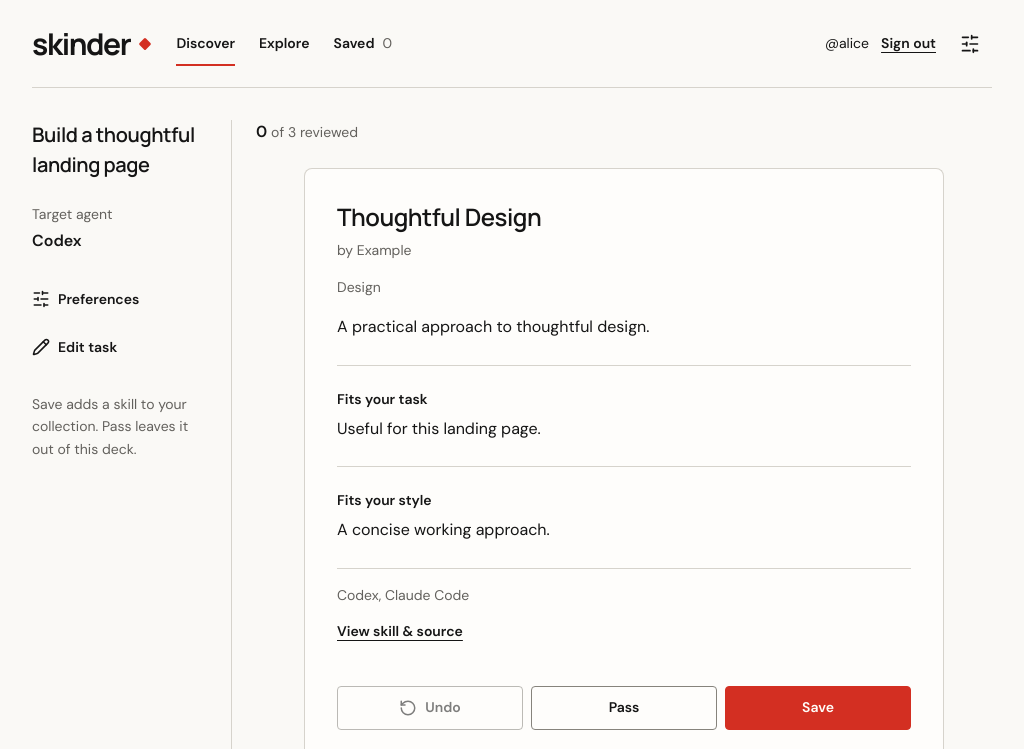
Test: skill discovery › retries a lost save response idempotently without starting a new match
Expected: the heading "Thoughtful Design" is shown, [337,200,541,233]
Click the button with aria-label "Save this skill" at (818, 708), box [725,686,911,730]
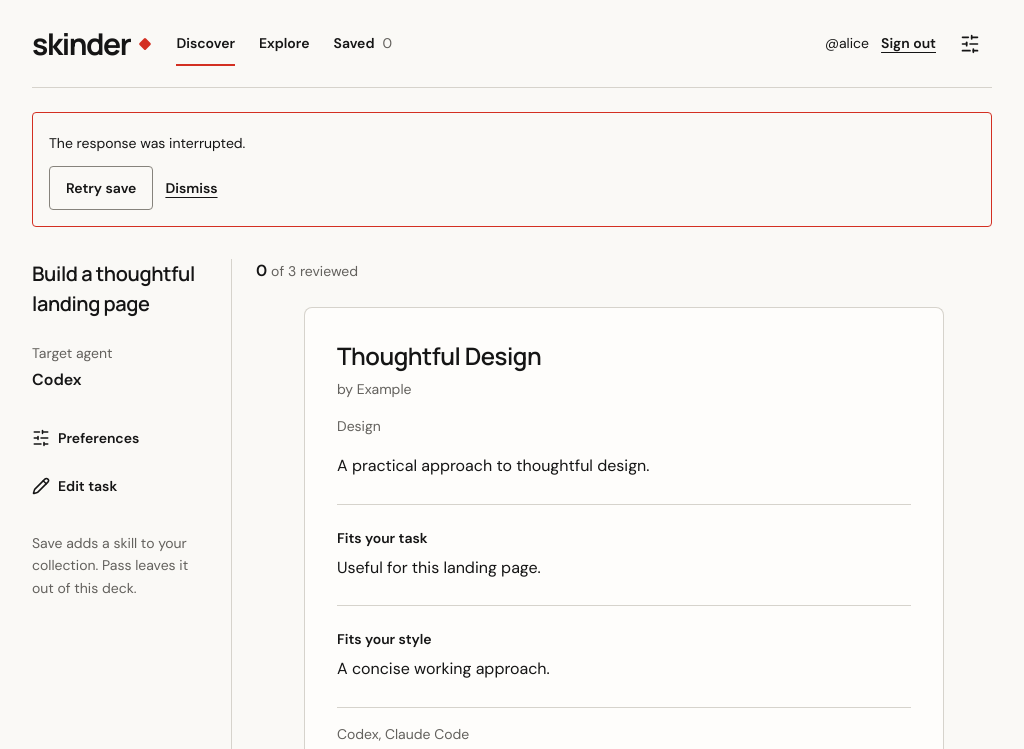
Expected: the heading "Thoughtful Design" is shown, [337,339,541,372]
Now the button "Retry save" is shown
Click the button "Retry save" at (101, 188), box [49,166,153,210]
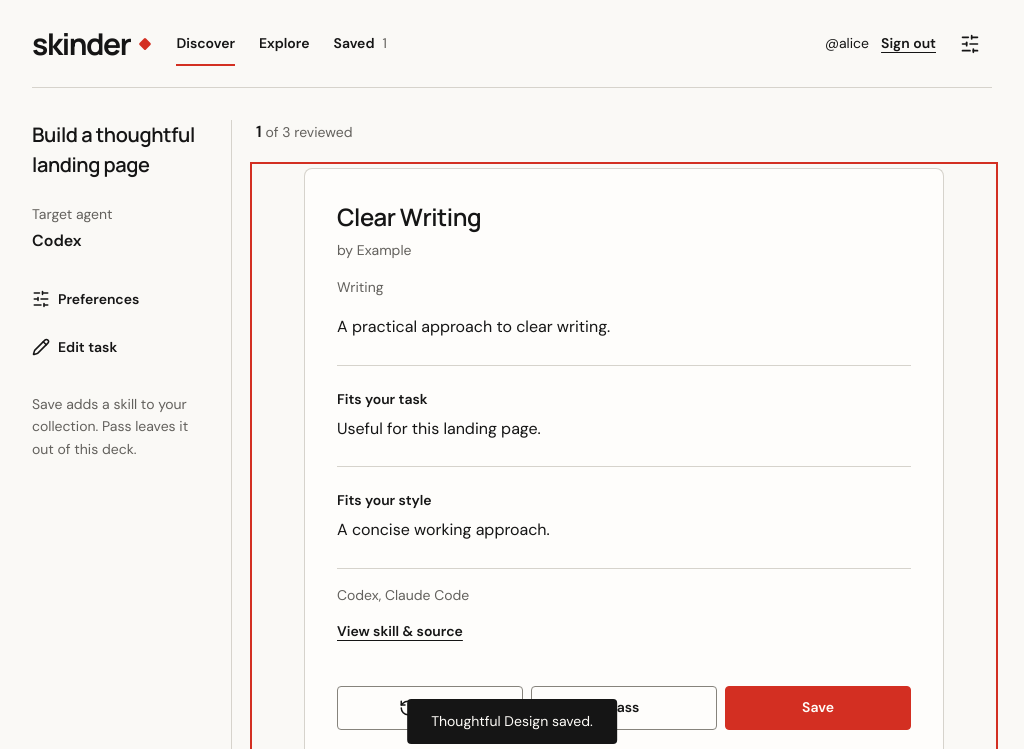
Now the heading "Clear Writing" is shown, box [337,200,481,233]
